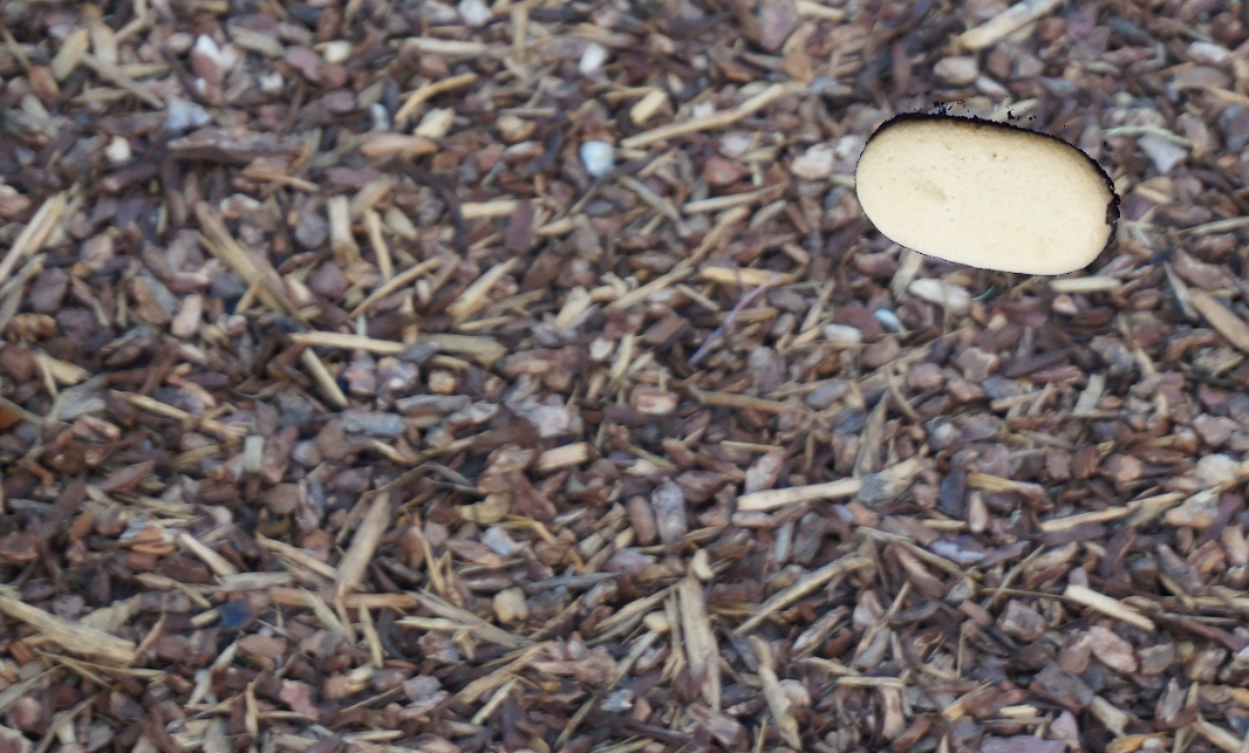test: (824, 16, 1162, 355)
